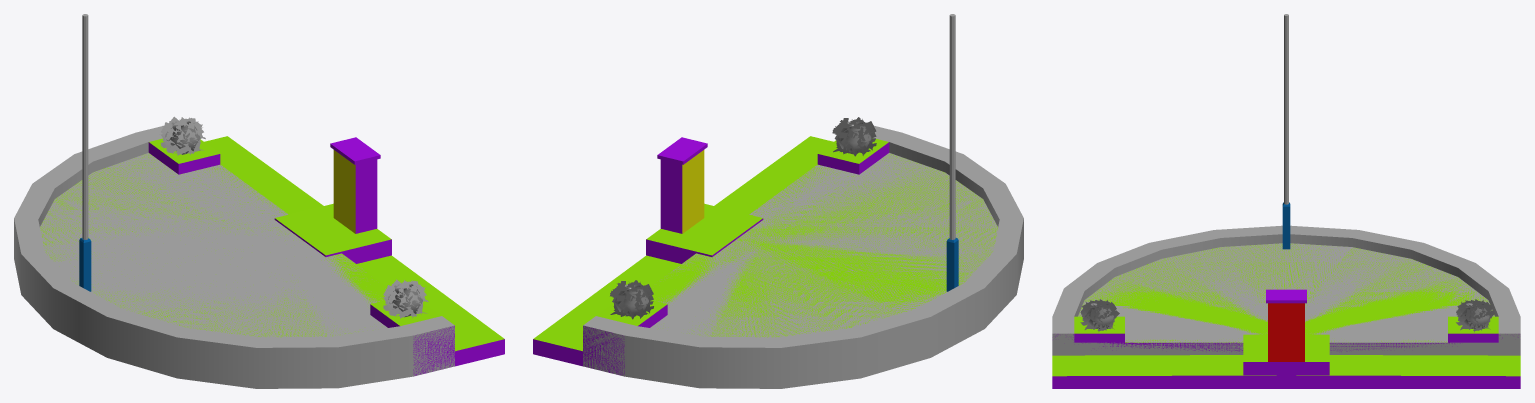
The model's file is Monument_001_Flagstaff_001.fbx.
3 views of the same model, side by side, from view 1: azimuth 30°, elevation 25°; view 2: azimuth 150°, elevation 25°; view 3: azimuth 270°, elevation 25° (orthographic). The views are drawn at different scales.
Visible parts, largest first — view 1: pCylinder9, pPlane35; view 2: pCylinder9, pPlane35; view 3: pPlane35, pCylinder9.
Part boxes in pixels (left/top/right/bottom): pCylinder9: left=14, top=126, right=454, bottom=388; pPlane35: left=40, top=14, right=504, bottom=375; pCylinder9: left=583, top=126, right=1023, bottom=388; pPlane35: left=533, top=14, right=997, bottom=376; pPlane35: left=1052, top=14, right=1520, bottom=388; pCylinder9: left=1052, top=225, right=1520, bottom=355.
Size of the model in its own units: 617 by 573 by 941.
